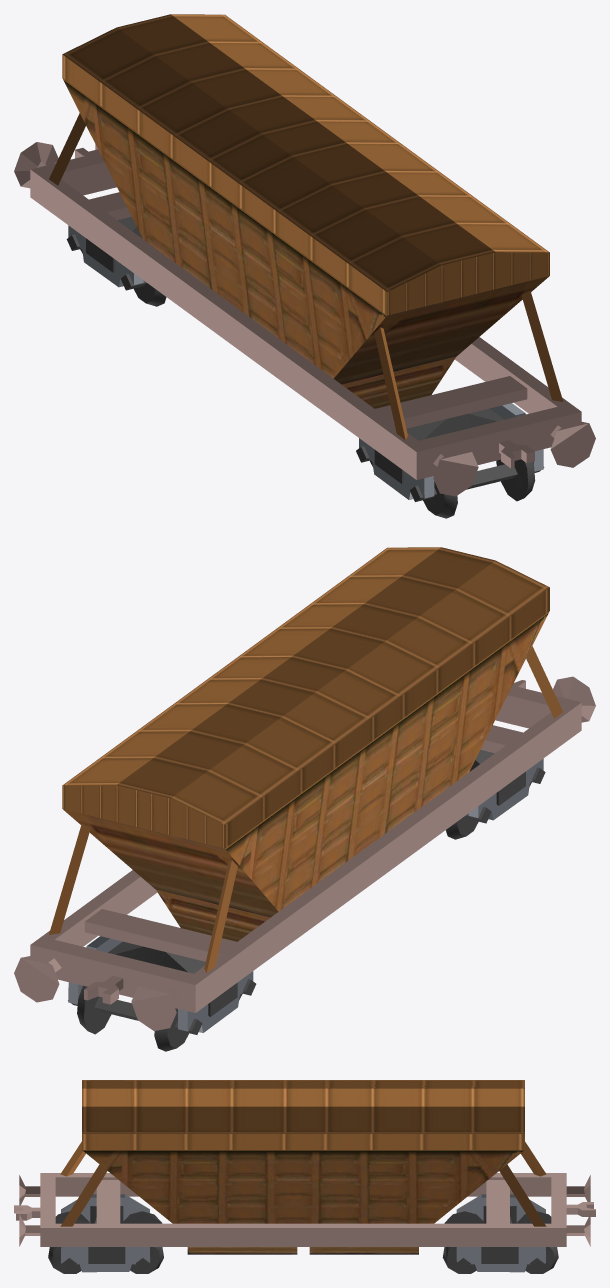
The model's file is hoppercarbrown.dae.
3 renders of one model, top to bottom at view 1: azimuth 30°, elevation 25°; view 2: azimuth 150°, elevation 25°; view 3: azimuth 270°, elevation 25°, orthographic. The views are drawn at different scales.
Visible parts, largest first — view 1: 9.0.242.0_Pts_Material_Surf, 9.0.242.0_Pts_Material__4__Surf, 9.0.242.0_Pts_Material__2__Surf, 9.0.242.0_Pts_Material__3__Surf; view 2: 9.0.242.0_Pts_Material_Surf, 9.0.242.0_Pts_Material__4__Surf, 9.0.242.0_Pts_Material__2__Surf, 9.0.242.0_Pts_Material__3__Surf; view 3: 9.0.242.0_Pts_Material_Surf, 9.0.242.0_Pts_Material__4__Surf, 9.0.242.0_Pts_Material__2__Surf, 9.0.242.0_Pts_Material__3__Surf.
Part boxes in pixels (x1,y1,x2,y2): 9.0.242.0_Pts_Material_Surf: (49, 14, 563, 439); 9.0.242.0_Pts_Material__4__Surf: (14, 142, 595, 496); 9.0.242.0_Pts_Material__2__Surf: (66, 216, 544, 518); 9.0.242.0_Pts_Material__3__Surf: (68, 225, 543, 499); 9.0.242.0_Pts_Material_Surf: (49, 547, 562, 973); 9.0.242.0_Pts_Material__4__Surf: (14, 676, 595, 1030); 9.0.242.0_Pts_Material__2__Surf: (68, 749, 545, 1051); 9.0.242.0_Pts_Material__3__Surf: (68, 758, 543, 1032); 9.0.242.0_Pts_Material_Surf: (60, 1080, 546, 1254); 9.0.242.0_Pts_Material__4__Surf: (14, 1173, 595, 1246); 9.0.242.0_Pts_Material__2__Surf: (48, 1206, 558, 1273); 9.0.242.0_Pts_Material__3__Surf: (60, 1194, 545, 1272).
Size of the model in its own units: 3.2 by 4.47 by 14.32.
Materials: 4 (1 with a texture image).
